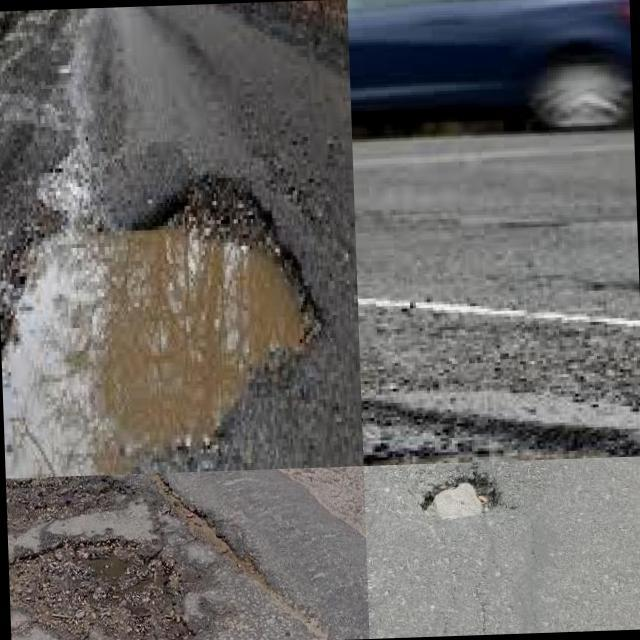Pothole: (1, 163, 307, 478), (8, 532, 196, 640), (5, 475, 125, 536), (421, 471, 501, 518)
